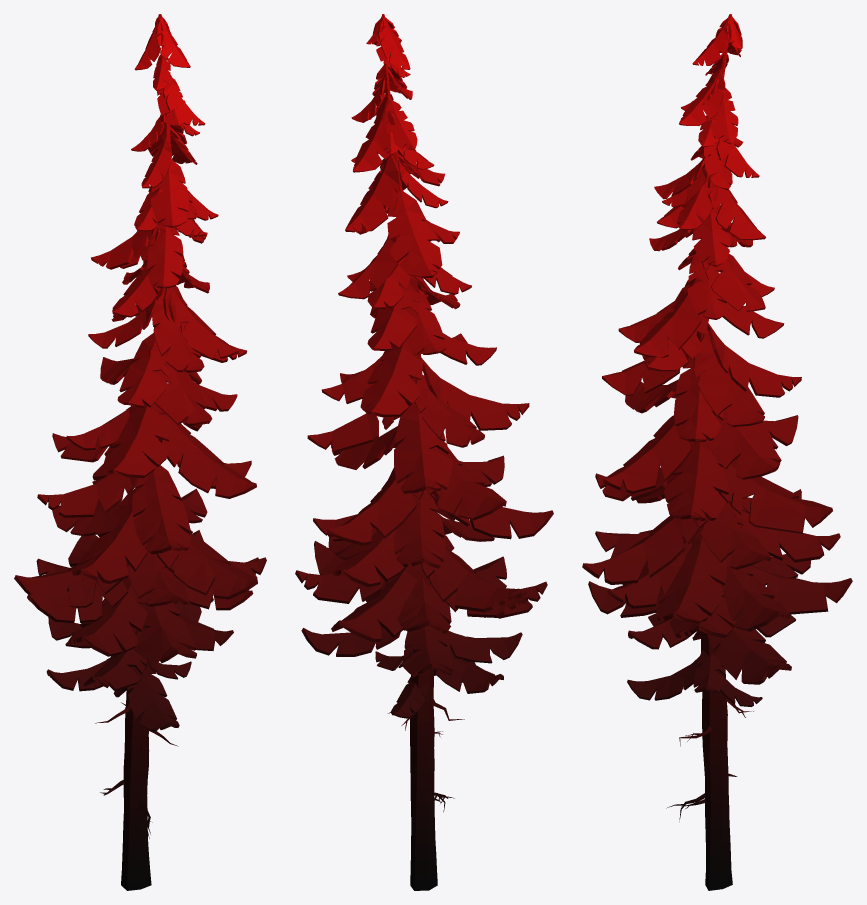
Rendered from TreeSpruceTall05.fbx.
3 renders of one model, left to right at view 1: azimuth 30°, elevation 25°; view 2: azimuth 150°, elevation 25°; view 3: azimuth 270°, elevation 25°, orthographic. The views are drawn at different scales.
Visible parts, largest first — view 1: TreeSpruceTall05_LOD0; view 2: TreeSpruceTall05_LOD0; view 3: TreeSpruceTall05_LOD0.
Boxes of the visible parts, left/top/right/bottom form: TreeSpruceTall05_LOD0: left=14, top=14, right=266, bottom=890; TreeSpruceTall05_LOD0: left=295, top=14, right=553, bottom=890; TreeSpruceTall05_LOD0: left=582, top=14, right=852, bottom=890.
Size of what is drawn, in the model's own units: 409 by 1495 by 414.
